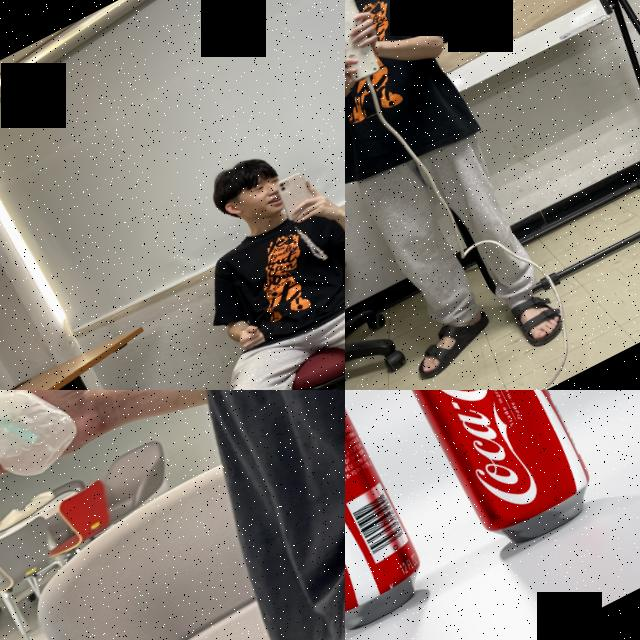can: (362, 390, 606, 559), (345, 390, 438, 640)
cup: (0, 390, 90, 523)
